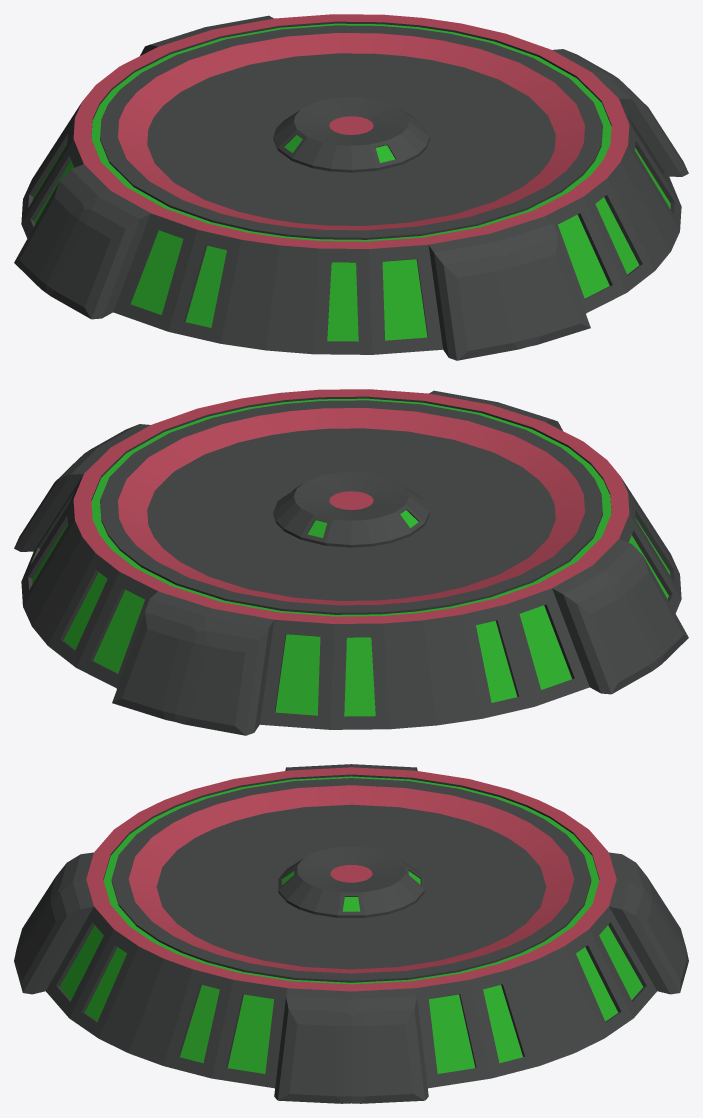
File: Jogo do TI 4.fbx_EmisorLaiser.fbx
The picture shows the model from 3 angles, top to bottom: view 1: azimuth 30°, elevation 25°; view 2: azimuth 150°, elevation 25°; view 3: azimuth 270°, elevation 25°; orthographic projection. The views are drawn at different scales.
Parts seen in each view (by area): view 1: EmisorLaiser; view 2: EmisorLaiser; view 3: EmisorLaiser.
Boxes of the visible parts, x1,y1,x2,y2 form: EmisorLaiser: [14, 14, 688, 360]; EmisorLaiser: [14, 389, 688, 735]; EmisorLaiser: [14, 764, 688, 1103].
Bounding box in the file's own units: 399 × 65.68 × 399.
